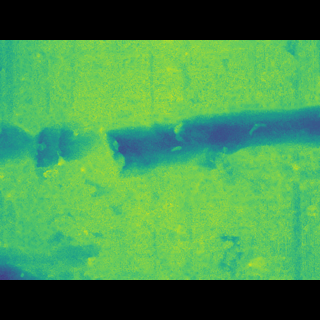Loch: (0, 68, 320, 250)
